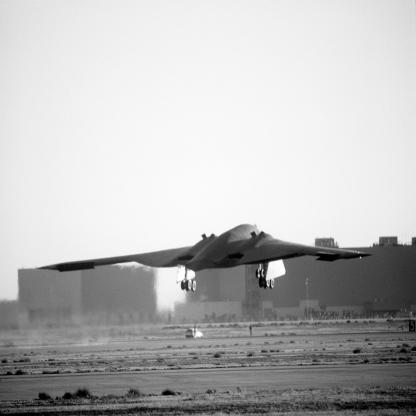B2: (37, 224, 374, 293)
